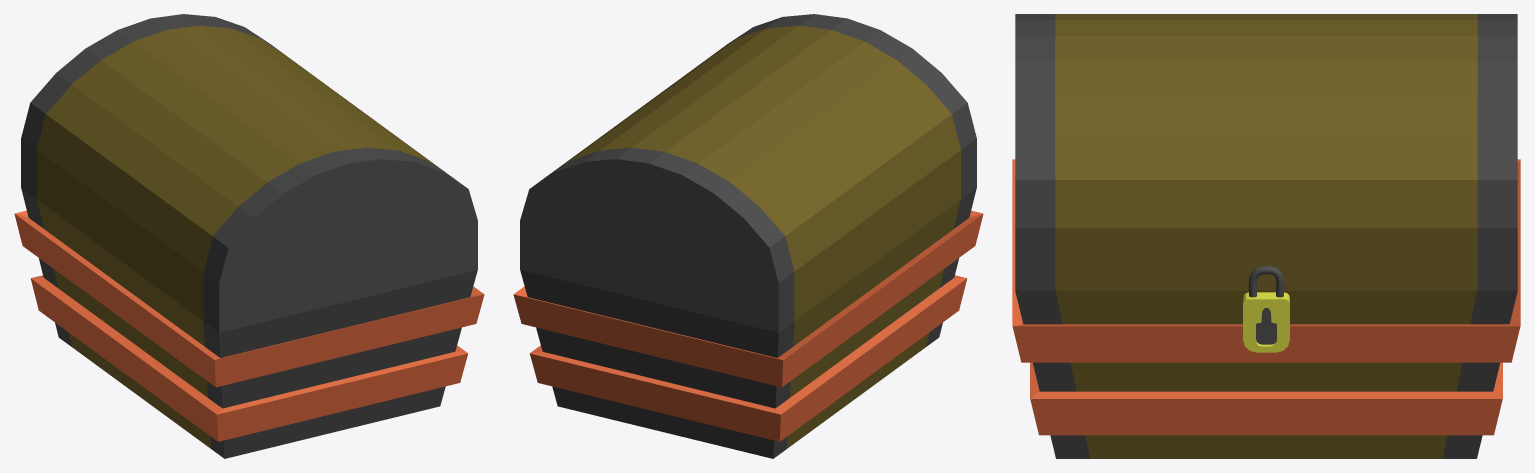
File: Chest.fbx
3 views of the same model, side by side, from view 1: azimuth 30°, elevation 25°; view 2: azimuth 150°, elevation 25°; view 3: azimuth 270°, elevation 25° (orthographic). The views are drawn at different scales.
Visible parts, largest first — view 1: Plane.001, Plane; view 2: Plane.001, Plane; view 3: Plane.001, Plane, Plane.002.
Boxes of the visible parts, x1=… form: Plane.001: x1=21, y1=14, x2=477, y2=332; Plane: x1=14, y1=188, x2=484, y2=458; Plane.001: x1=520, y1=14, x2=976, y2=332; Plane: x1=513, y1=188, x2=983, y2=458; Plane.001: x1=1015, y1=14, x2=1517, y2=290; Plane: x1=1012, y1=159, x2=1520, y2=458; Plane.002: x1=1243, y1=266, x2=1289, y2=352.
Bounding box in the file's own units: 1.91 × 1.87 × 2.41.
